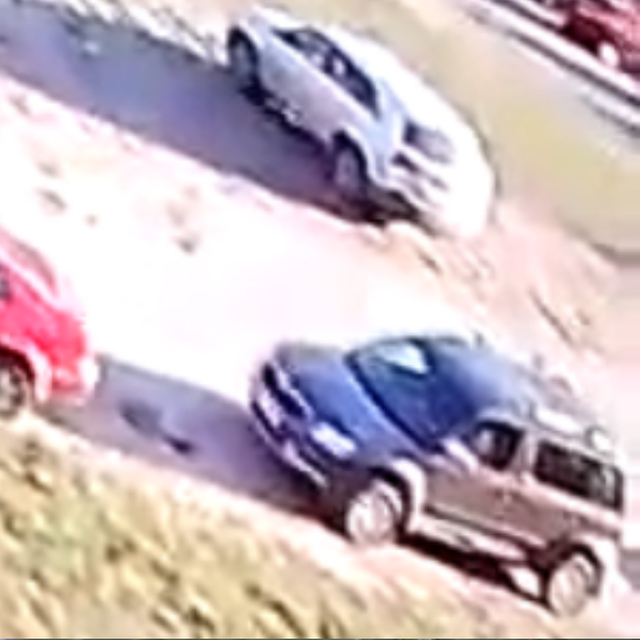car: (246, 332, 640, 619), (227, 7, 494, 238)
